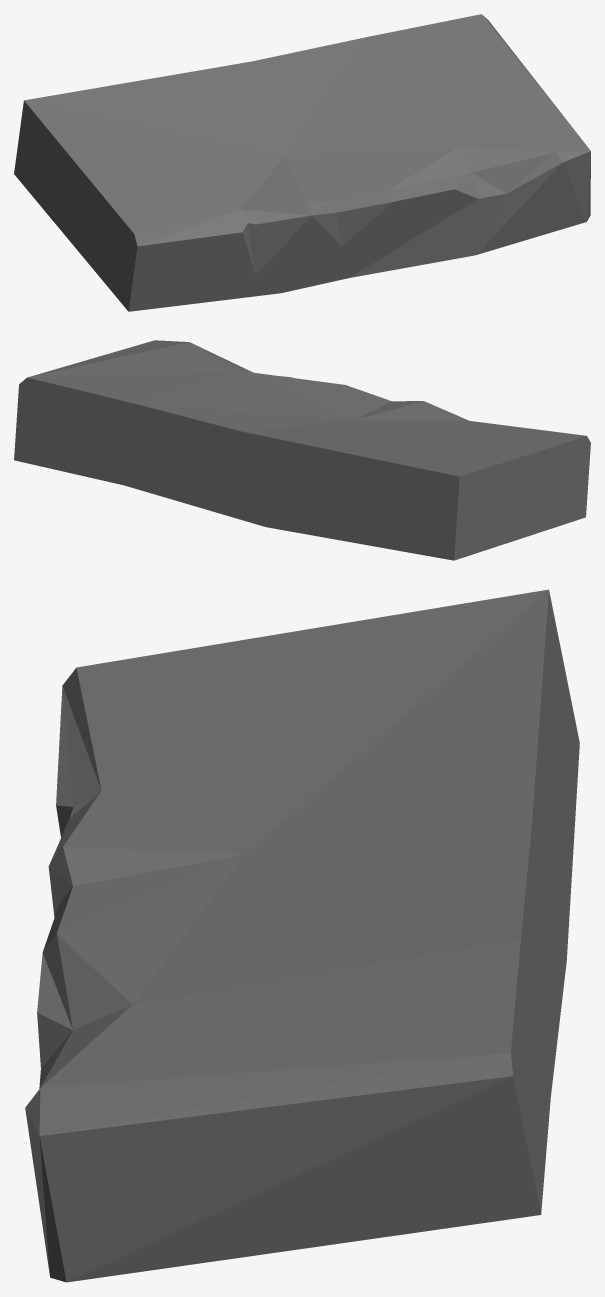
Rendered from rock_011.glb.
The picture shows the model from 3 angles, top to bottom: view 1: azimuth 30°, elevation 25°; view 2: azimuth 150°, elevation 25°; view 3: azimuth 270°, elevation 25°; orthographic projection. The views are drawn at different scales.
Visible parts, largest first — view 1: rock_011; view 2: rock_011; view 3: rock_011.
Boxes of the visible parts, box(x1,y1,x2,y2) form: rock_011: box(14, 14, 590, 311); rock_011: box(14, 340, 590, 560); rock_011: box(25, 589, 579, 1282).
Size of the model in its own units: 30.59 by 8.81 by 15.94.
Materials: 1 (1 with a texture image).
